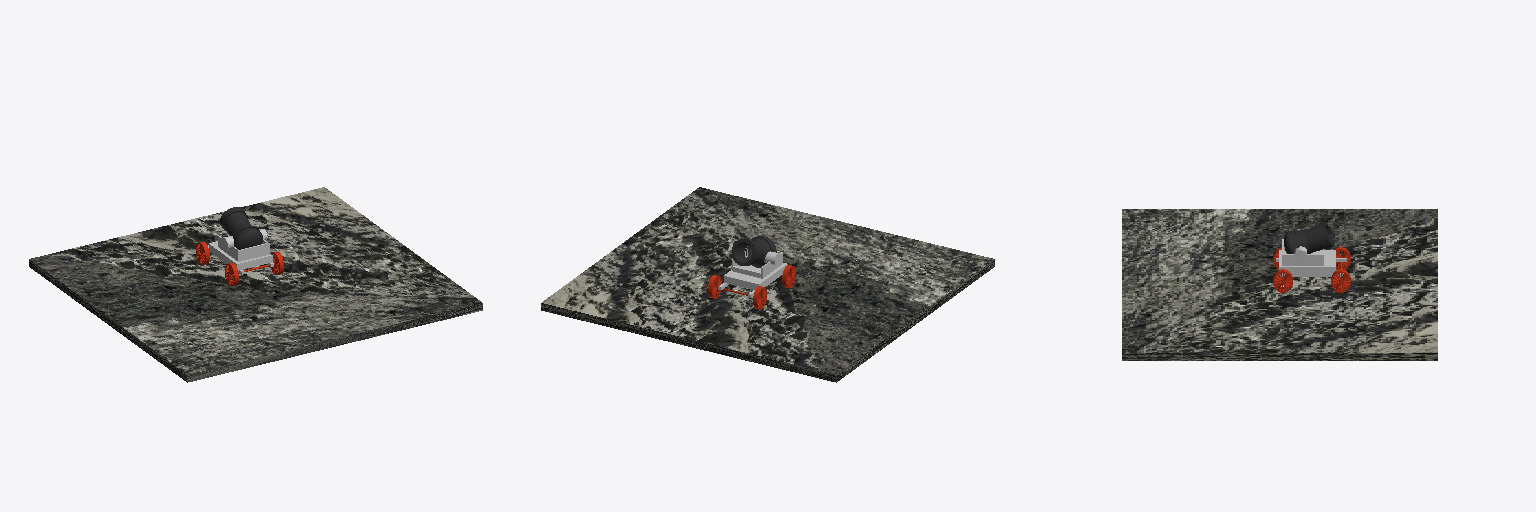
3 views of the same model, side by side, from view 1: azimuth 30°, elevation 25°; view 2: azimuth 150°, elevation 25°; view 3: azimuth 270°, elevation 25° (orthographic).
Parts seen in each view (by area): view 1: Cube.003_Cube.001, Cylinder.001_Cylinder.005, Cylinder.004_Cylinder, Cube.004_Cube.002, Cylinder_Cylinder.001; view 2: Cube.003_Cube.001, Cylinder.001_Cylinder.005, Cube.004_Cube.002, Cylinder.004_Cylinder, Cylinder.003_Cylinder.000; view 3: Cube.003_Cube.001, Cylinder.001_Cylinder.005, Cube.004_Cube.002, Cylinder.004_Cylinder, Cylinder.003_Cylinder.000.
Part boxes in pixels (left/top/right/bottom): Cube.003_Cube.001: left=29, top=187, right=482, bottom=382; Cylinder.001_Cylinder.005: left=219, top=207, right=262, bottom=249; Cylinder.004_Cylinder: left=218, top=229, right=269, bottom=261; Cube.004_Cube.002: left=209, top=241, right=272, bottom=270; Cylinder_Cylinder.001: left=225, top=252, right=283, bottom=285; Cube.003_Cube.001: left=541, top=187, right=994, bottom=382; Cylinder.001_Cylinder.005: left=732, top=236, right=776, bottom=267; Cube.004_Cube.002: left=724, top=263, right=787, bottom=289; Cylinder.004_Cylinder: left=732, top=246, right=782, bottom=278; Cylinder.003_Cylinder.000: left=708, top=275, right=766, bottom=309; Cube.003_Cube.001: left=1122, top=209, right=1437, bottom=360; Cylinder.001_Cylinder.005: left=1284, top=222, right=1333, bottom=253; Cube.004_Cube.002: left=1279, top=250, right=1335, bottom=273; Cylinder.004_Cylinder: left=1282, top=239, right=1323, bottom=265; Cylinder.003_Cylinder.000: left=1331, top=247, right=1350, bottom=292.
Bounding box in the file's own units: 28.43 × 6.02 × 26.39.
10 materials, 1 textured.